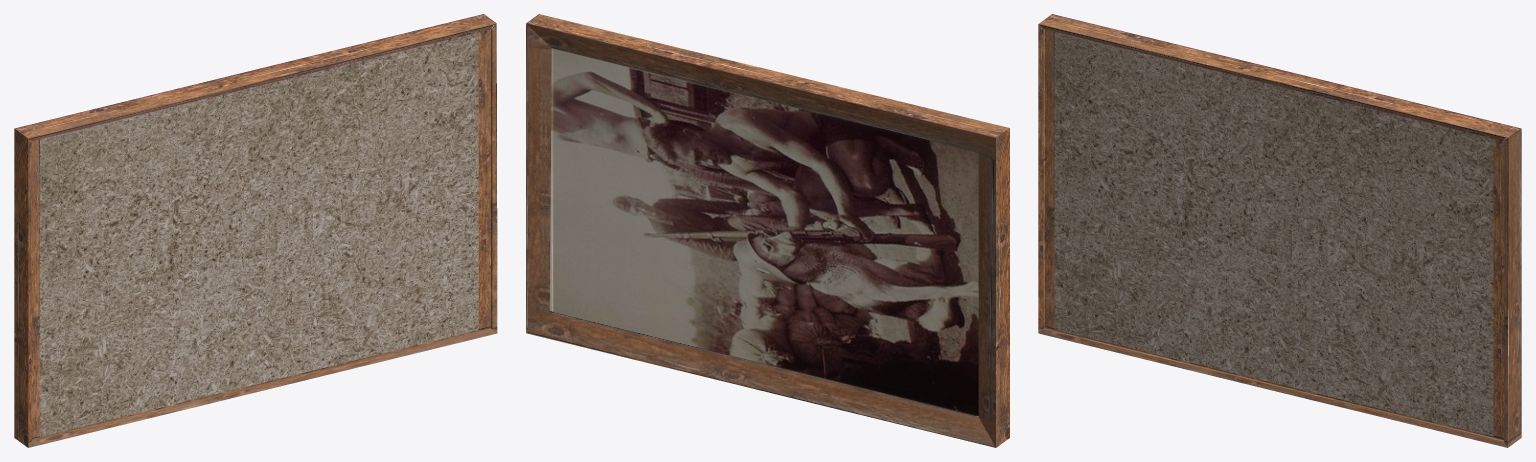
The model's file is photo_frame_ww2_3.fbx.
3 renders of one model, left to right at view 1: azimuth 30°, elevation 25°; view 2: azimuth 150°, elevation 25°; view 3: azimuth 330°, elevation 25°, orthographic.
Visible parts, largest first — view 1: Box001; view 2: Box001; view 3: Box001.
Part boxes in pixels (<box>): Box001: <box>14,14,497,447</box>; Box001: <box>526,14,1009,447</box>; Box001: <box>1038,14,1521,447</box>.
Size of the model in its own units: 15.03 by 9.47 by 0.7599.
Materials: 1 (1 with a texture image).
